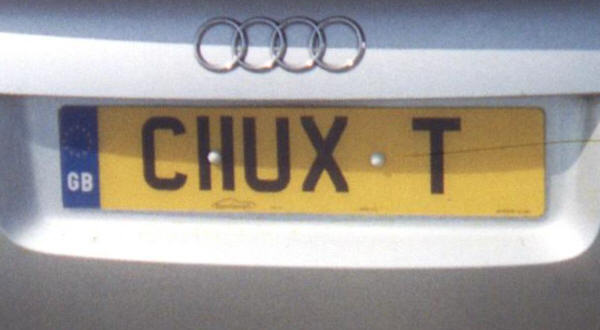license_plate: (59, 105, 548, 218)
